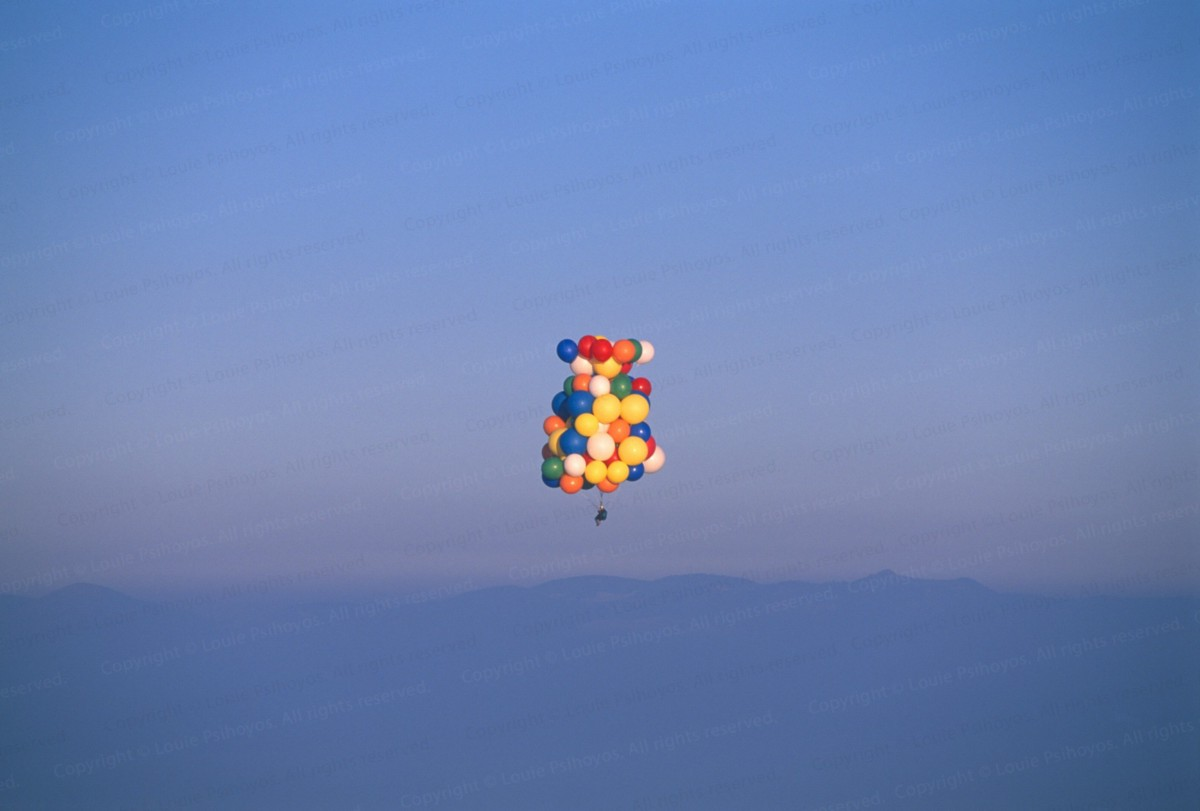Balloon: (618, 436, 648, 466), (620, 394, 649, 424), (591, 394, 620, 424), (587, 432, 615, 459), (573, 412, 598, 437), (563, 452, 586, 477), (585, 460, 608, 485), (557, 338, 578, 363), (591, 339, 613, 362), (613, 339, 635, 362), (606, 460, 629, 482), (541, 456, 564, 478), (588, 375, 612, 396)
